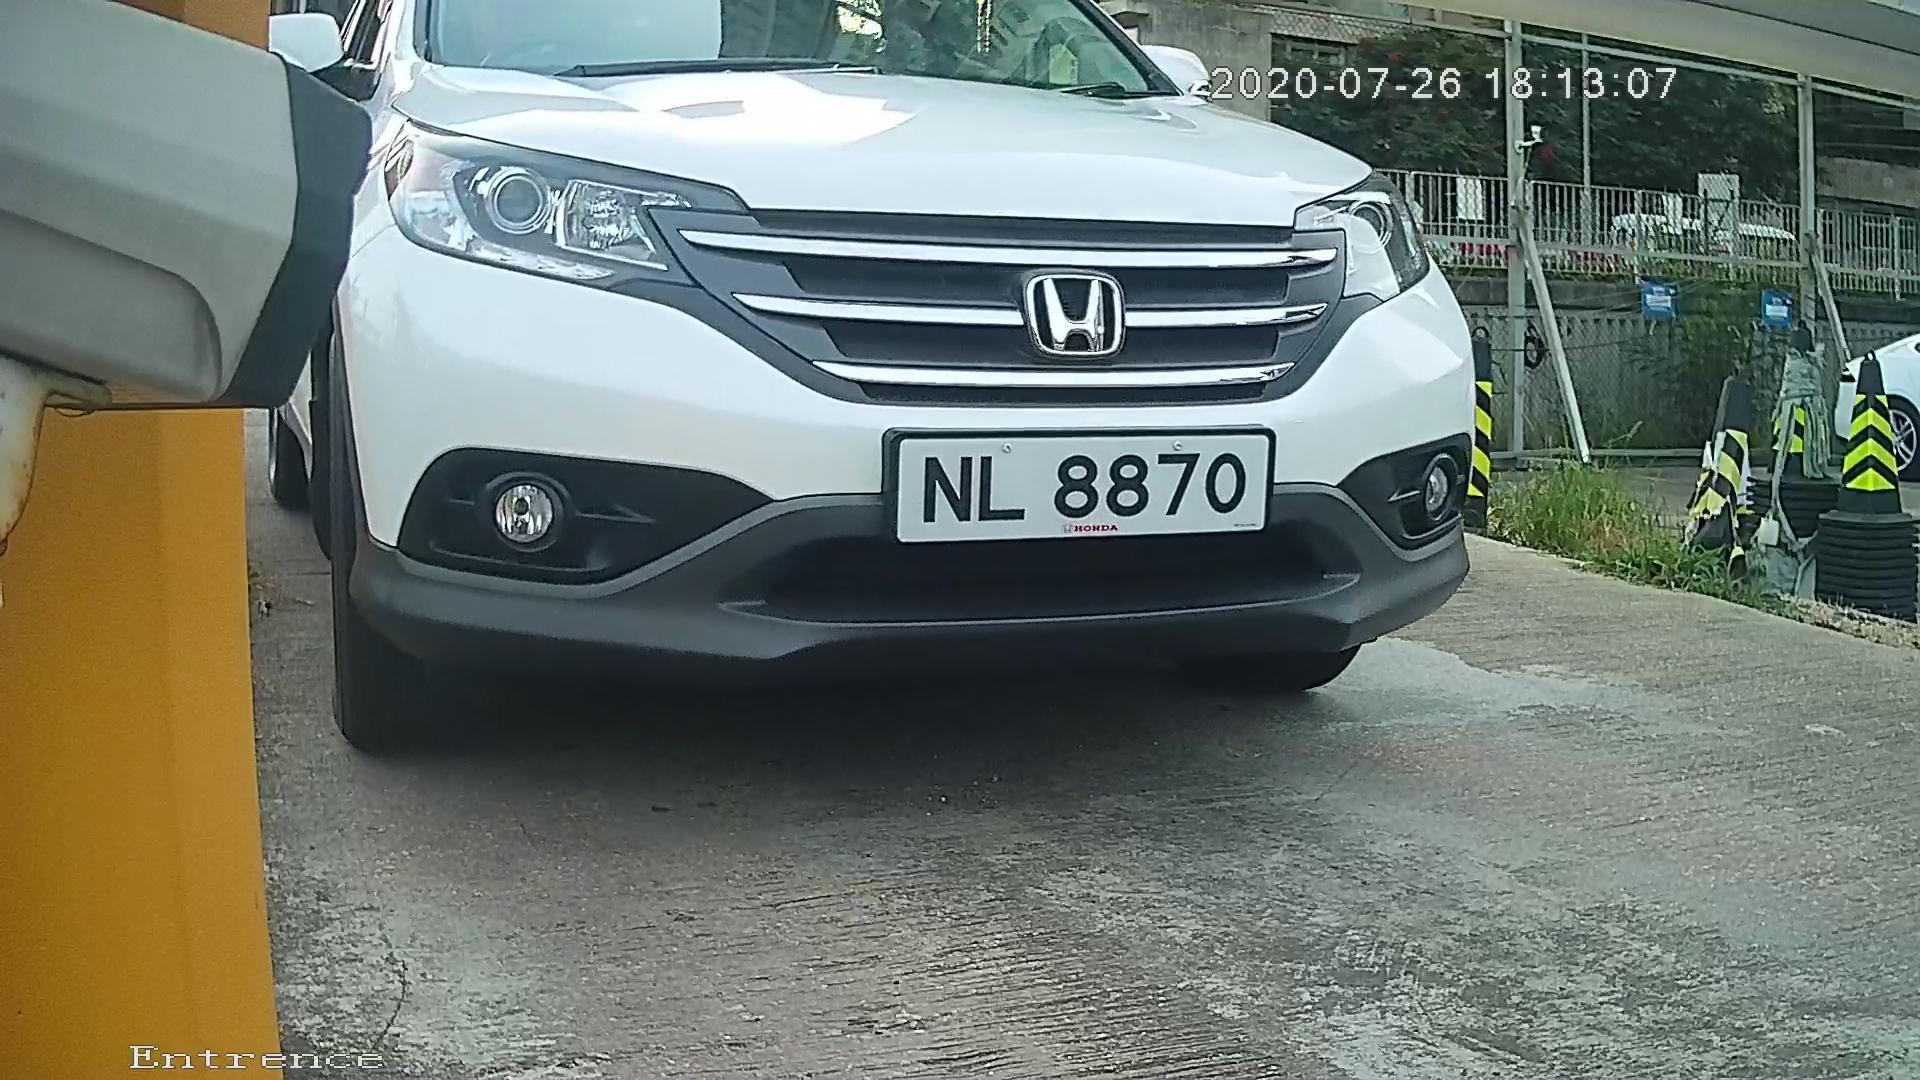License Plate: (858, 406, 1295, 550)
